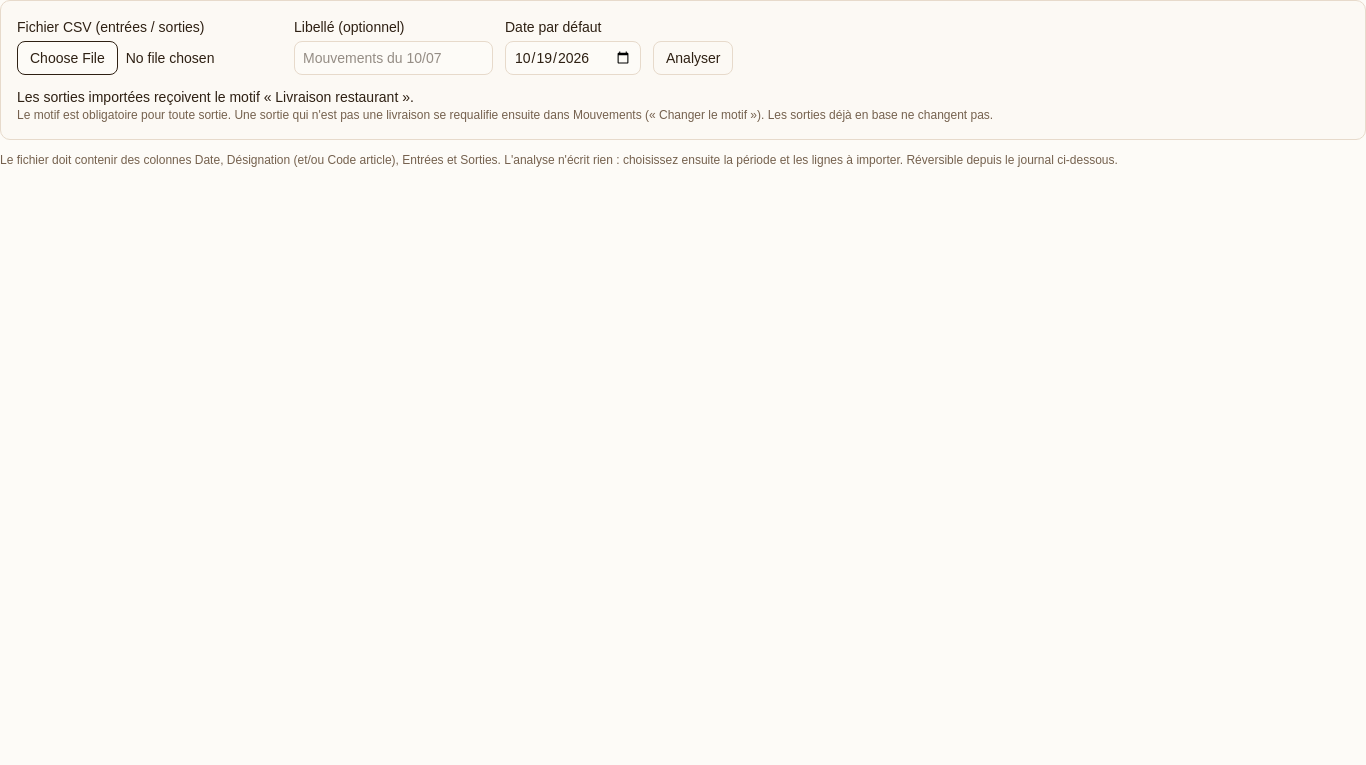
Scenario: aperçu de l'import de mouvements (CSV) › « Tout décocher » / « Tout cocher » visent tout le filtre et le disent (119)
Step 1. Click the button "Analyser" → x=693, y=58, box left=653, top=41, right=734, bottom=75
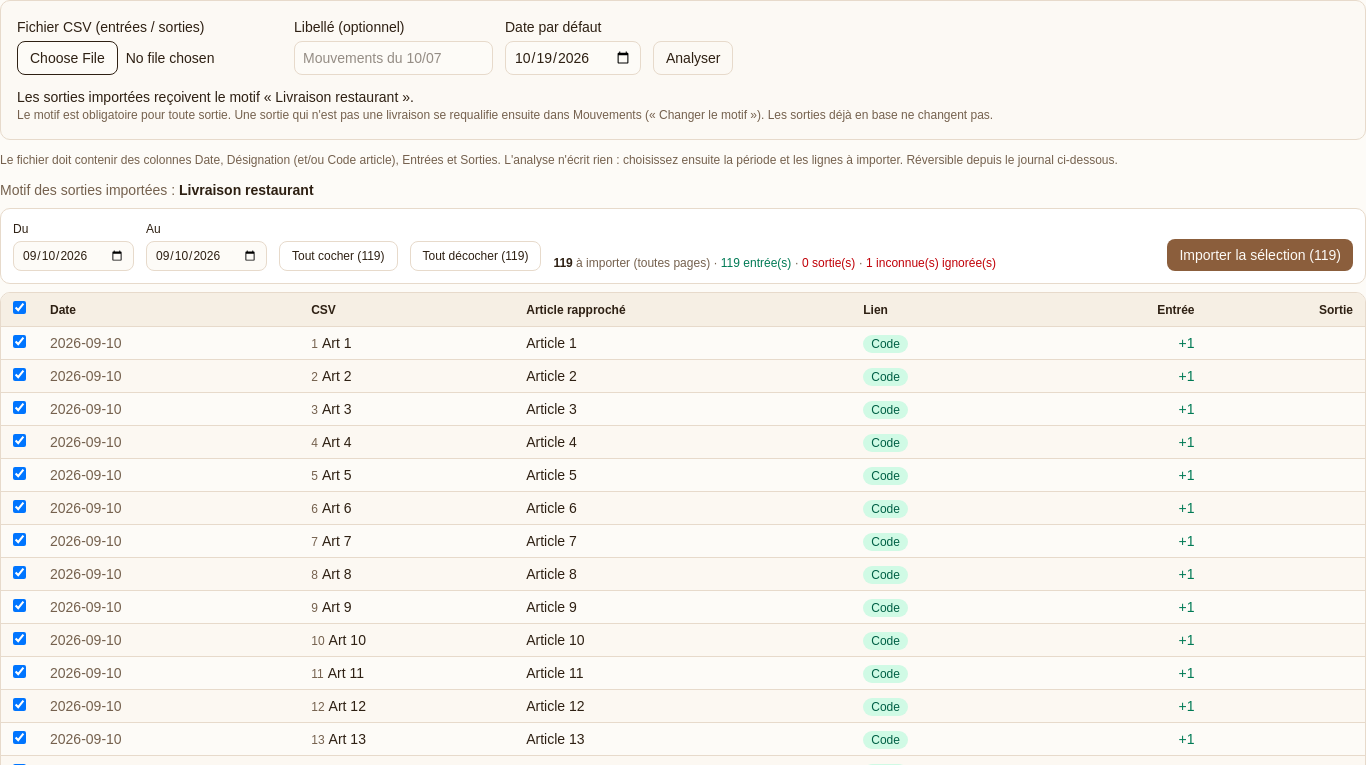
Expected: the button "Tout décocher (119)" is shown
Step 2. Click the button "Tout décocher (119)" → x=475, y=256, box left=410, top=241, right=541, bottom=271
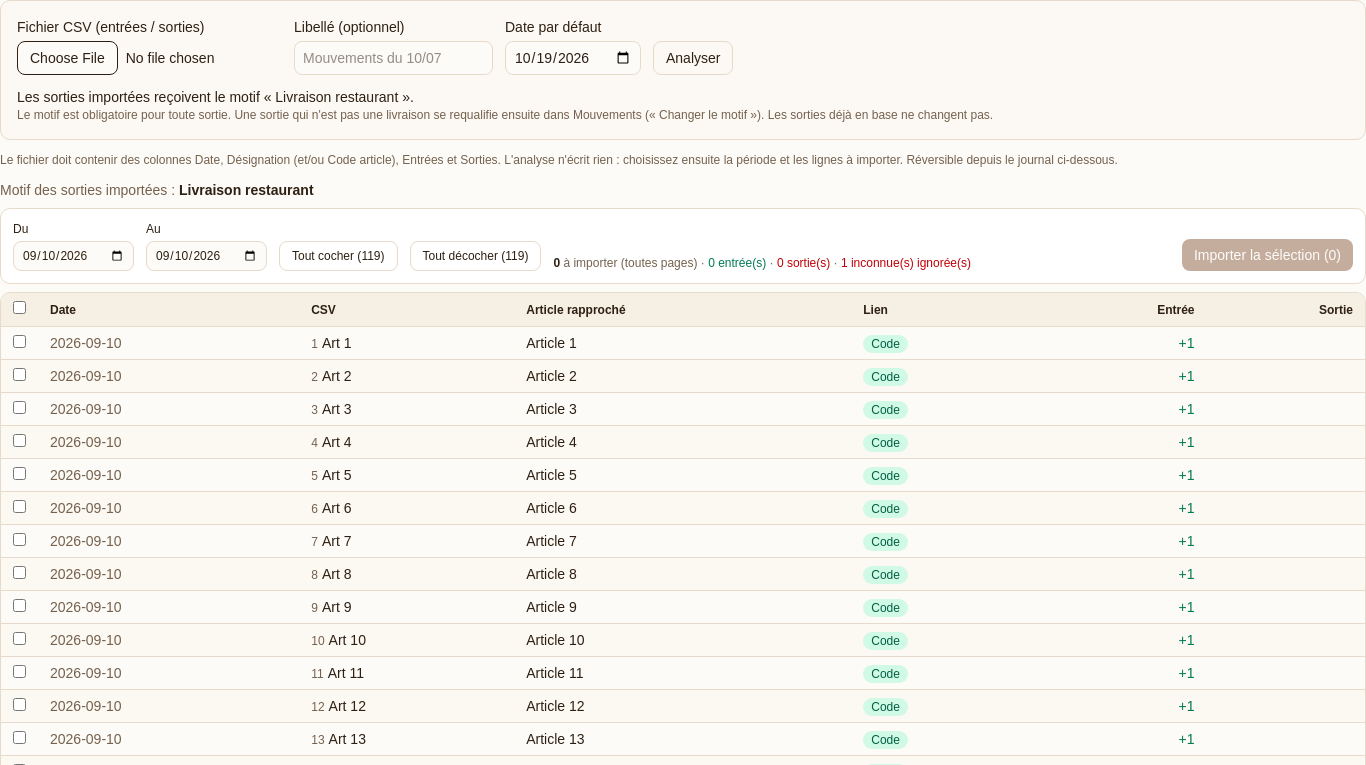
Expected: the text "0 à importer" is shown, left=553, top=255, right=971, bottom=271
Step 3. Click the button "Tout cocher (119)" → x=338, y=256, box left=279, top=241, right=398, bottom=271
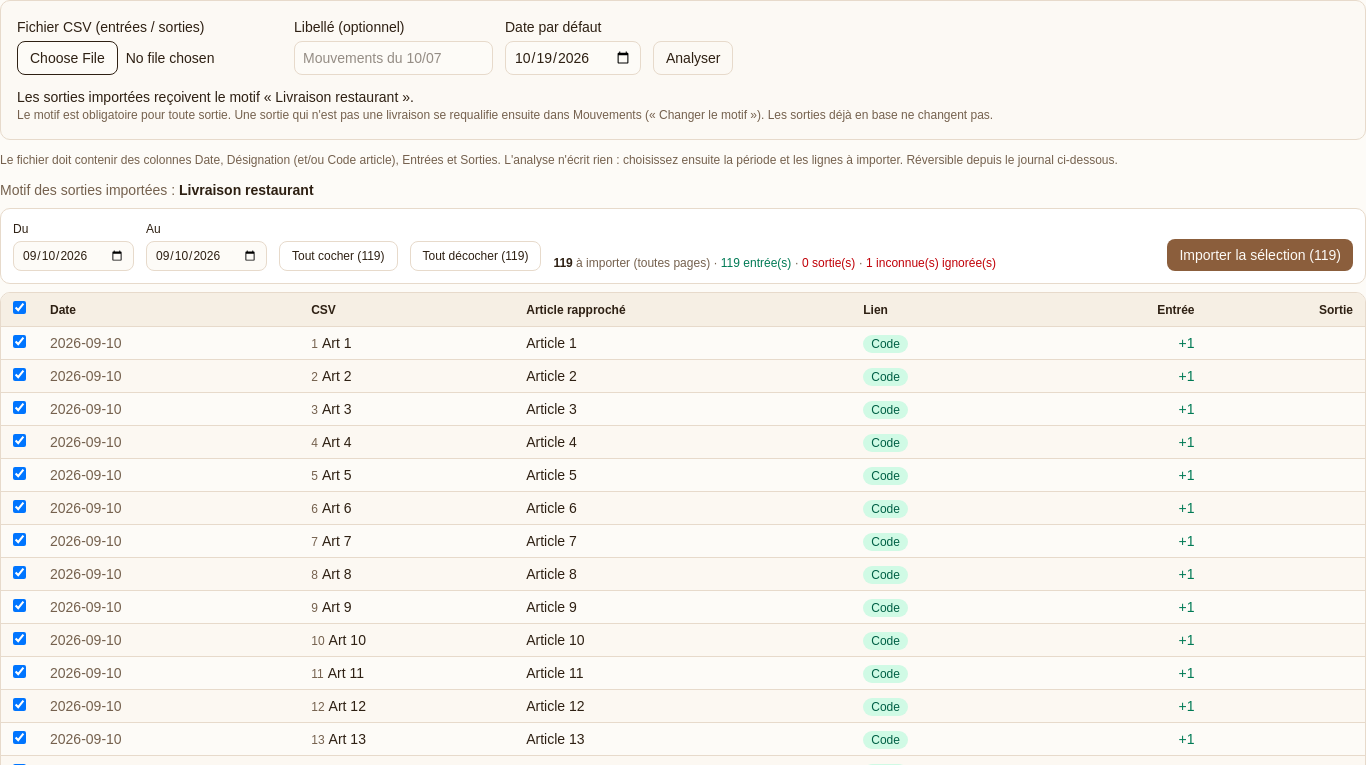
Expected: the text "119 à importer" is shown, left=553, top=255, right=996, bottom=271
